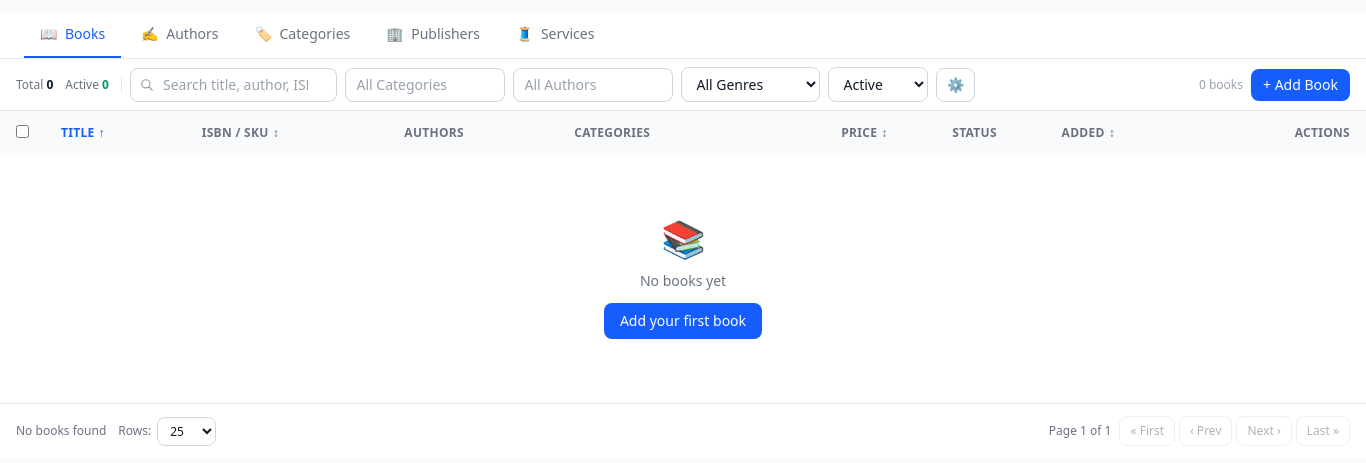
Test: Catalog: Services tab (#169) › keeps the list away from Stock_Clerk changes too (1a)
The width and height of the screenshot is (1366, 463).
Click the button "🧵 Services" at (555, 35), box left=500, top=12, right=610, bottom=58
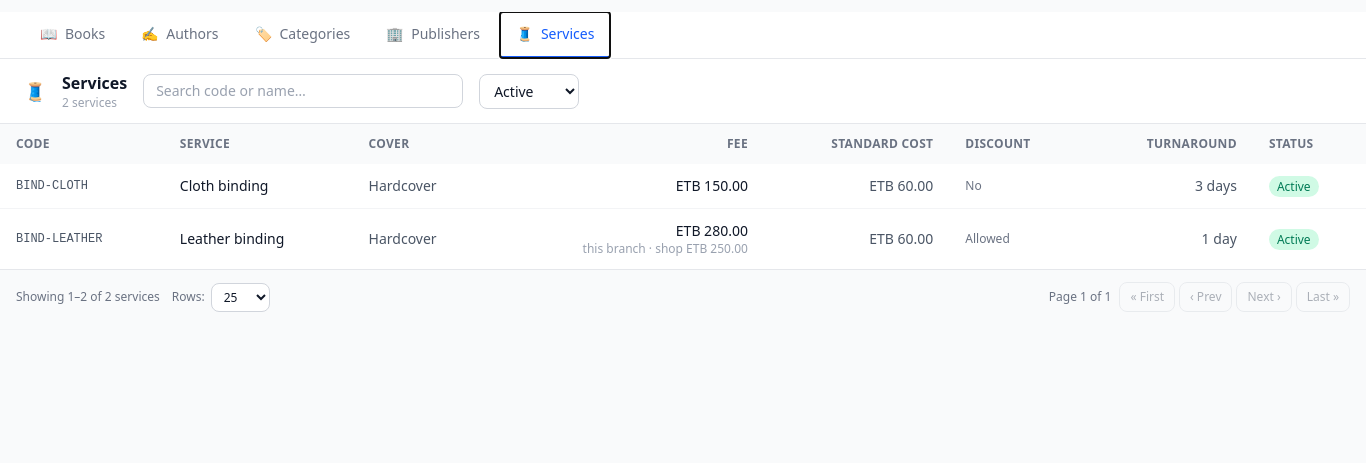
Now the text "Cloth binding" is shown, box left=164, top=164, right=353, bottom=208
